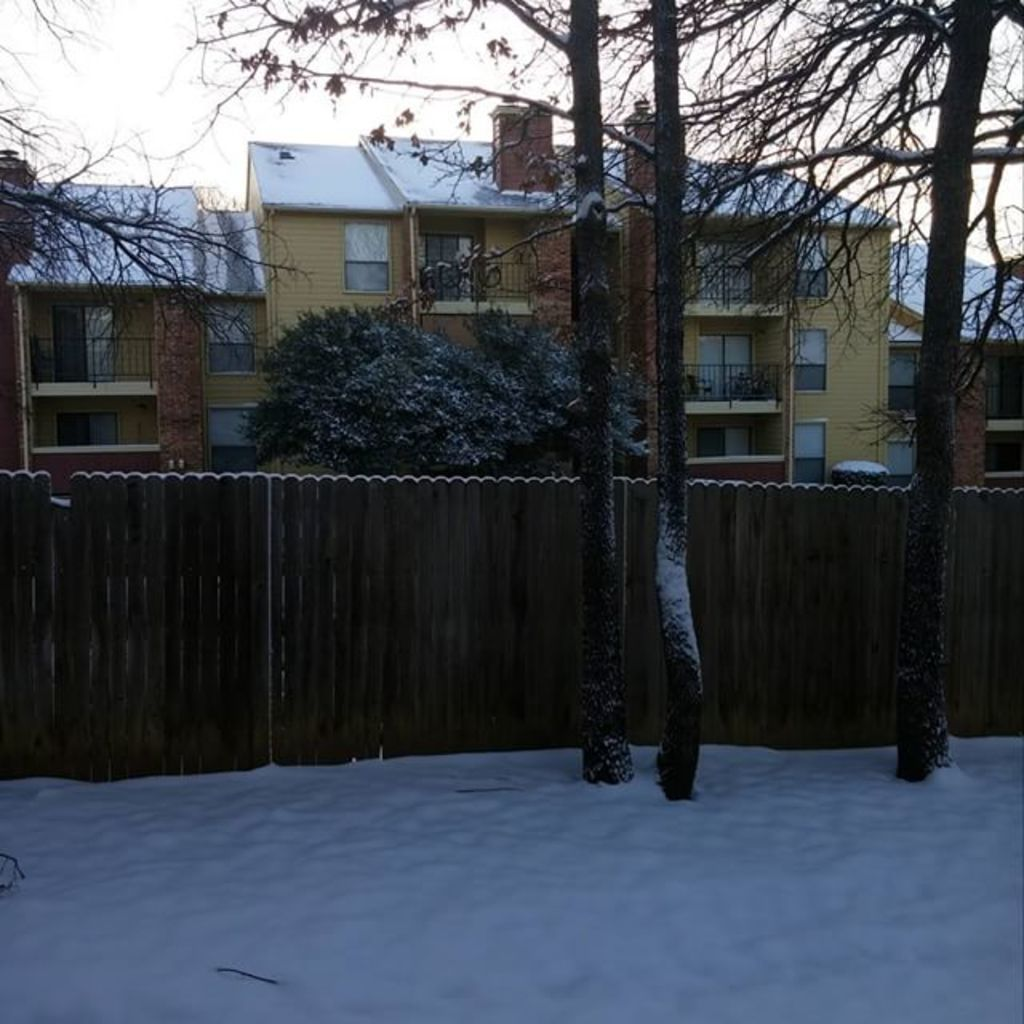Tree: (105, 0, 1022, 800), (0, 0, 321, 465), (244, 308, 646, 476)
